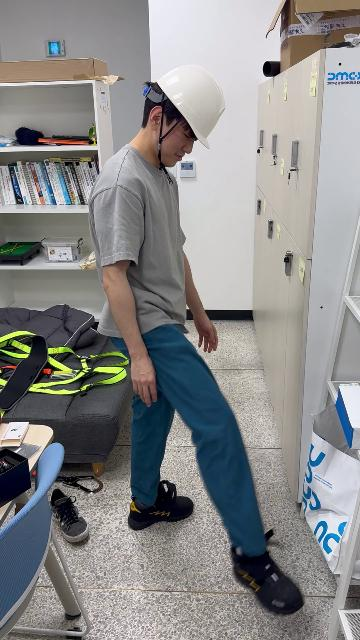helmet_worn: (157, 64, 225, 147)
shoe_not_worn: (49, 487, 90, 543)
shoe_worn: (232, 534, 302, 614), (128, 478, 194, 529)
vest_not_worn: (86, 150, 193, 336)
